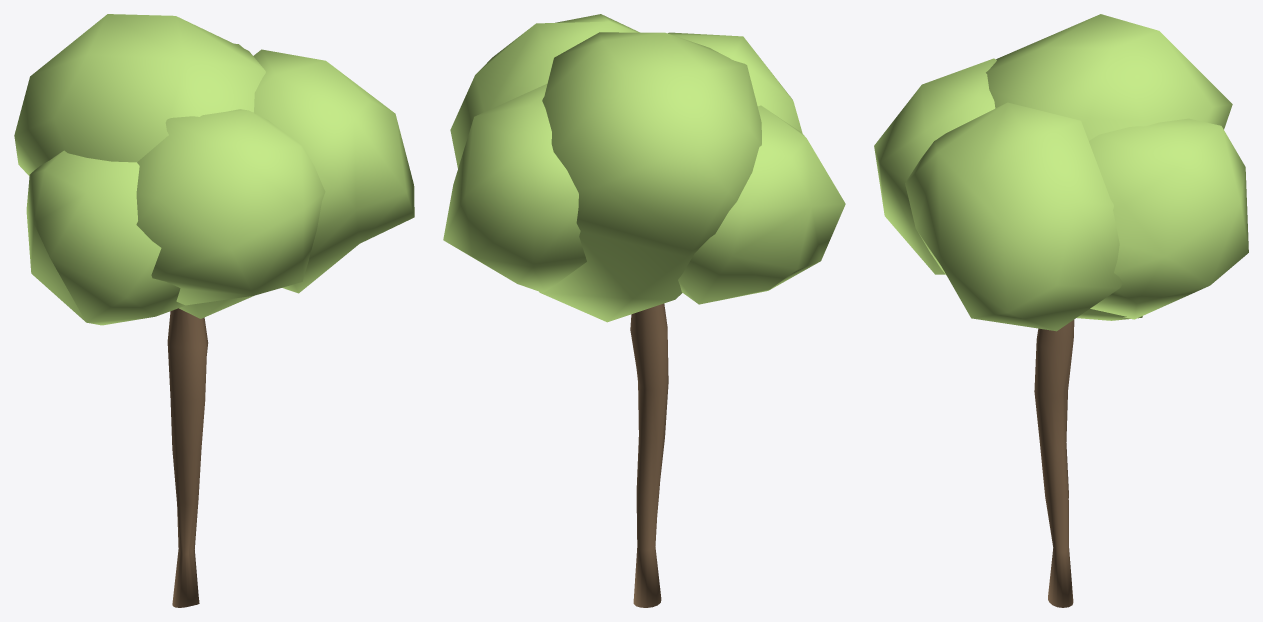
The model's file is tree.glb.
The picture shows the model from 3 angles, left to right: view 1: azimuth 30°, elevation 25°; view 2: azimuth 150°, elevation 25°; view 3: azimuth 270°, elevation 25°; orthographic projection. The views are drawn at different scales.
Parts seen in each view (by area): view 1: tree; view 2: tree; view 3: tree.
Part boxes in pixels (left/top/right/bottom): tree: left=14, top=14, right=414, bottom=607; tree: left=443, top=14, right=845, bottom=607; tree: left=874, top=14, right=1248, bottom=607.
Size of the model in its own units: 4.17 by 6.15 by 3.72.
